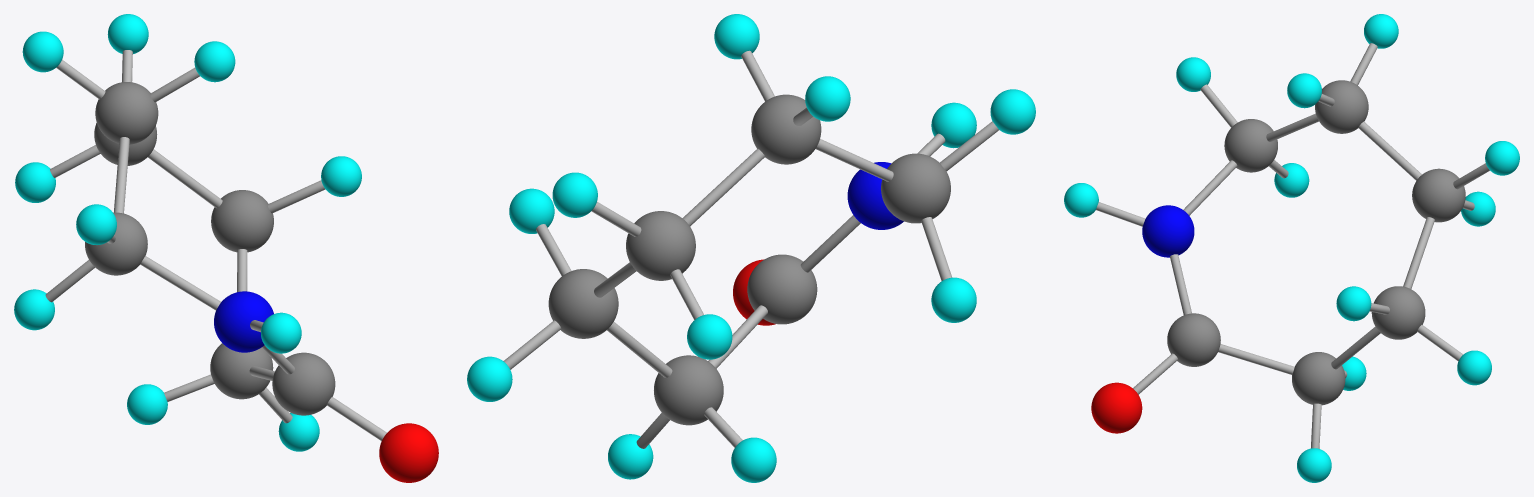
The model's file is ε-caprolactam.glb.
3 views of the same model, side by side, from view 1: azimuth 30°, elevation 25°; view 2: azimuth 150°, elevation 25°; view 3: azimuth 270°, elevation 25° (orthographic). The views are drawn at different scales.
Parts seen in each view (by area): view 1: CMAtom_3, CMAtom_8, CMAtom_0, CMAtom_33, CMAtom_32, CMAtom_1, CMAtom_9, CMAtom_28, CMAtom_20, CMAtom_27, CMAtom_14, CMAtom_12 (+17 smaller); view 2: CMAtom_9, CMAtom_0, CMAtom_7, CMAtom_1, CMAtom_3, CMAtom_8, CMAtom_32, CMAtom_22, CMAtom_25, CMAtom_29, CMAtom_11, CMAtom_27 (+19 smaller); view 3: CMAtom_0, CMAtom_1, CMAtom_7, CMAtom_9, CMAtom_32, CMAtom_3, CMAtom_8, CMAtom_33, CMAtom_17, CMAtom_20, CMAtom_25, CMAtom_28 (+15 smaller).
Boxes of the visible parts, x1,y1,x2,y2 form: CMAtom_3: (211,190,273,252); CMAtom_8: (95,82,158,144); CMAtom_0: (272,352,335,415); CMAtom_33: (379,423,438,482); CMAtom_32: (214,291,273,352); CMAtom_1: (210,343,273,399); CMAtom_9: (85,212,147,275); CMAtom_28: (194,41,235,82); CMAtom_20: (321,156,361,196); CMAtom_27: (22,31,63,72); CMAtom_14: (261,312,301,353); CMAtom_12: (76,204,116,244); CMAtom_9: (881,153,950,223); CMAtom_0: (747,254,817,324); CMAtom_7: (626,211,695,280); CMAtom_1: (654,355,723,425); CMAtom_3: (548,269,618,338); CMAtom_8: (751,94,821,164); CMAtom_32: (847,162,903,229); CMAtom_22: (687,314,732,359); CMAtom_25: (552,172,597,217); CMAtom_29: (931,277,976,322); CMAtom_11: (731,437,776,482); CMAtom_27: (805,76,850,121); CMAtom_0: (1167,313,1220,366); CMAtom_1: (1292,352,1345,405); CMAtom_7: (1412,168,1465,222); CMAtom_9: (1224,119,1277,172); CMAtom_32: (1142,205,1194,257); CMAtom_3: (1371,286,1425,339); CMAtom_8: (1315,80,1368,133); CMAtom_33: (1091,382,1142,433); CMAtom_17: (1457,350,1491,385); CMAtom_20: (1336,286,1371,321); CMAtom_25: (1485,141,1519,175); CMAtom_28: (1287,73,1321,108).
Size of the model in its own units: 4.28 by 4.76 by 5.23.
